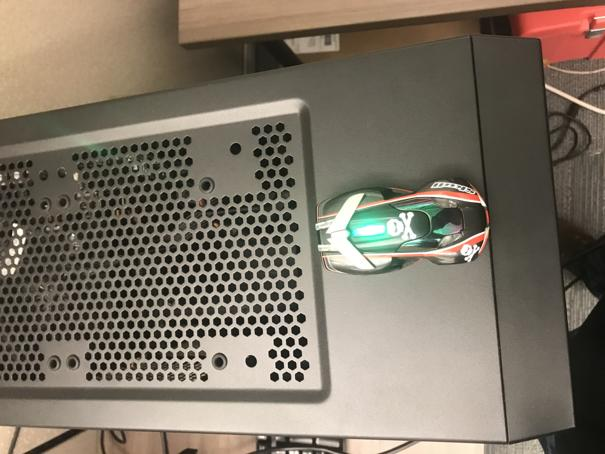Skull: (313, 179, 490, 275)
